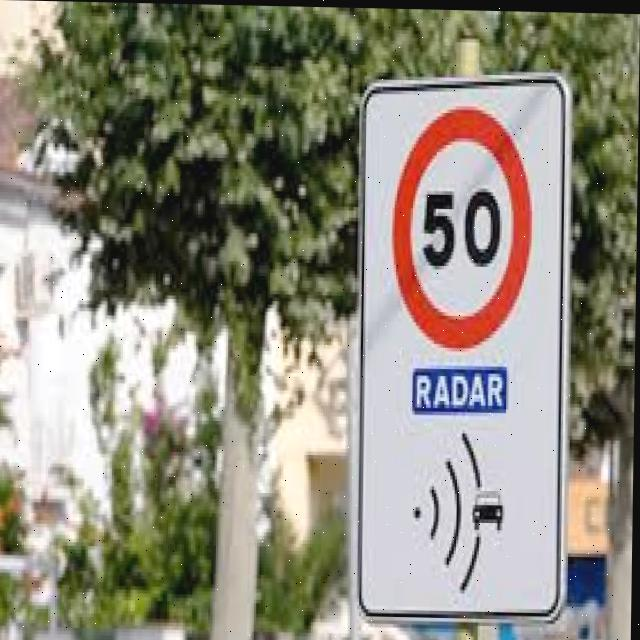Speed limit 50: (390, 97, 537, 352)
